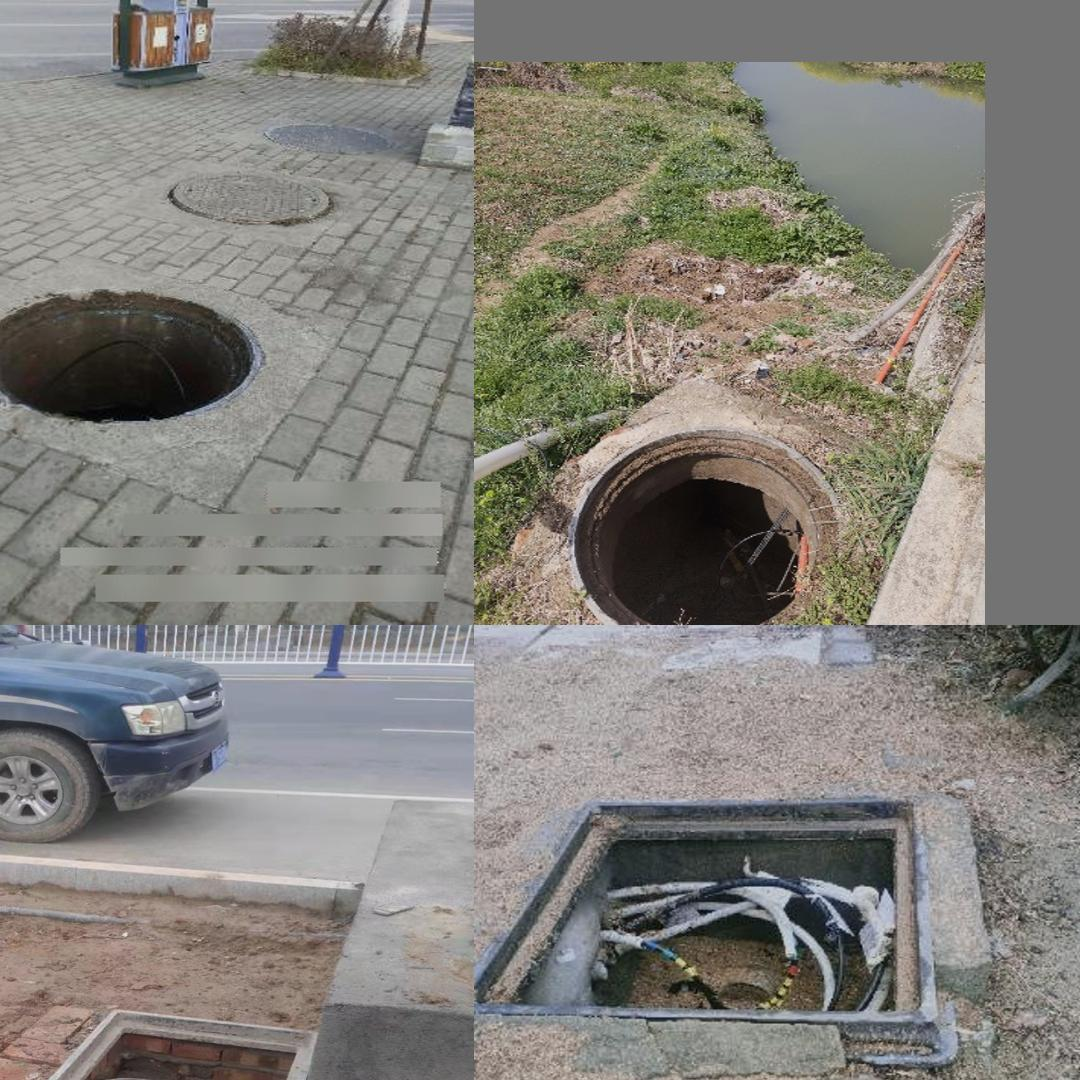good: (169, 169, 332, 227), (265, 121, 398, 157)
lose: (479, 794, 935, 1035), (568, 436, 861, 618), (0, 286, 263, 426), (0, 1005, 321, 1080)
